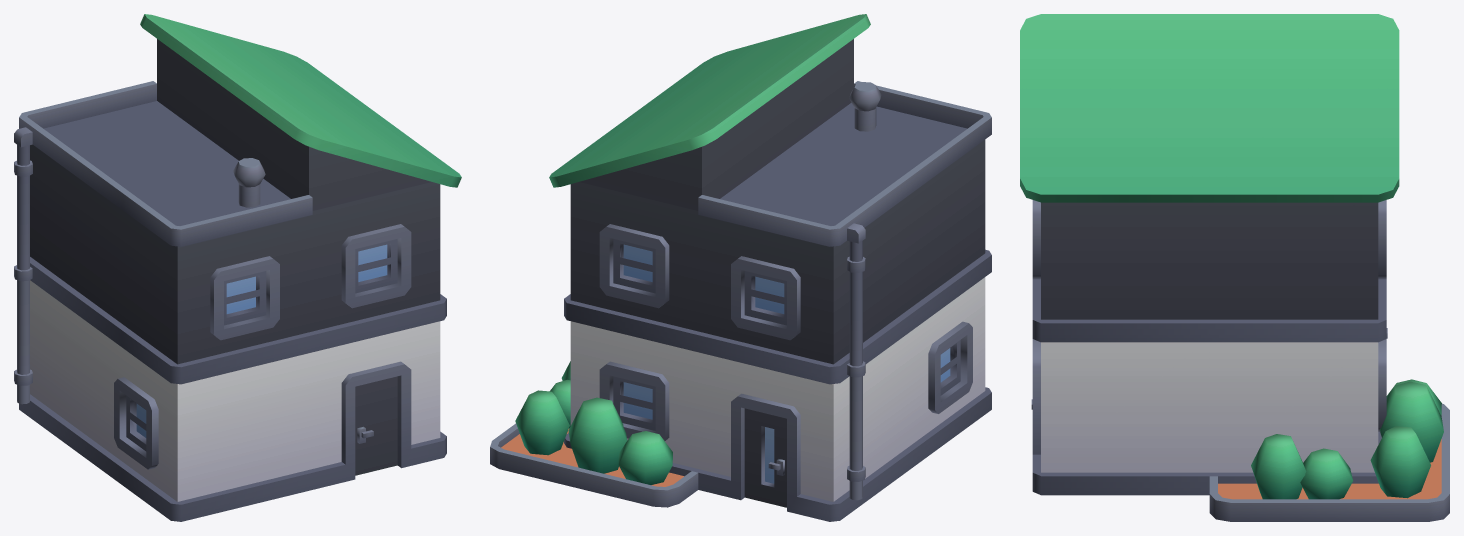
File: suburban.building_type_l.glb
3 views of the same model, side by side, from view 1: azimuth 30°, elevation 25°; view 2: azimuth 150°, elevation 25°; view 3: azimuth 270°, elevation 25° (orthographic). The views are drawn at different scales.
Visible parts, largest first — view 1: building-type-l; view 2: building-type-l; view 3: building-type-l.
Boxes of the visible parts, x1,y1,x2,y2 form: building-type-l: (14,14,461,521); building-type-l: (490,14,991,521); building-type-l: (1020,14,1449,521).
Bounding box in the file's own units: 5.68 × 5.77 × 5.61.
Materials: 1 (1 with a texture image).
